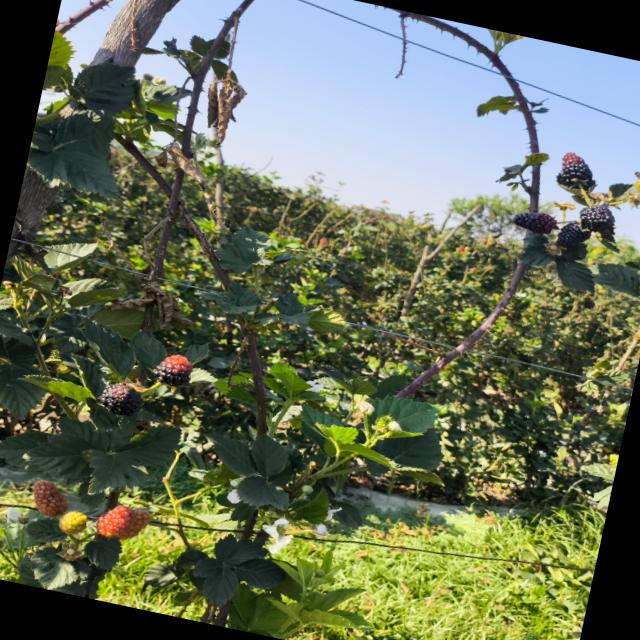maduro: (512, 212, 558, 234), (580, 205, 614, 232), (556, 221, 590, 248)
marron: (556, 152, 595, 189), (99, 383, 142, 416), (155, 354, 192, 385)
naranja: (33, 480, 67, 516), (96, 505, 133, 538)
verde: (58, 511, 87, 533)
